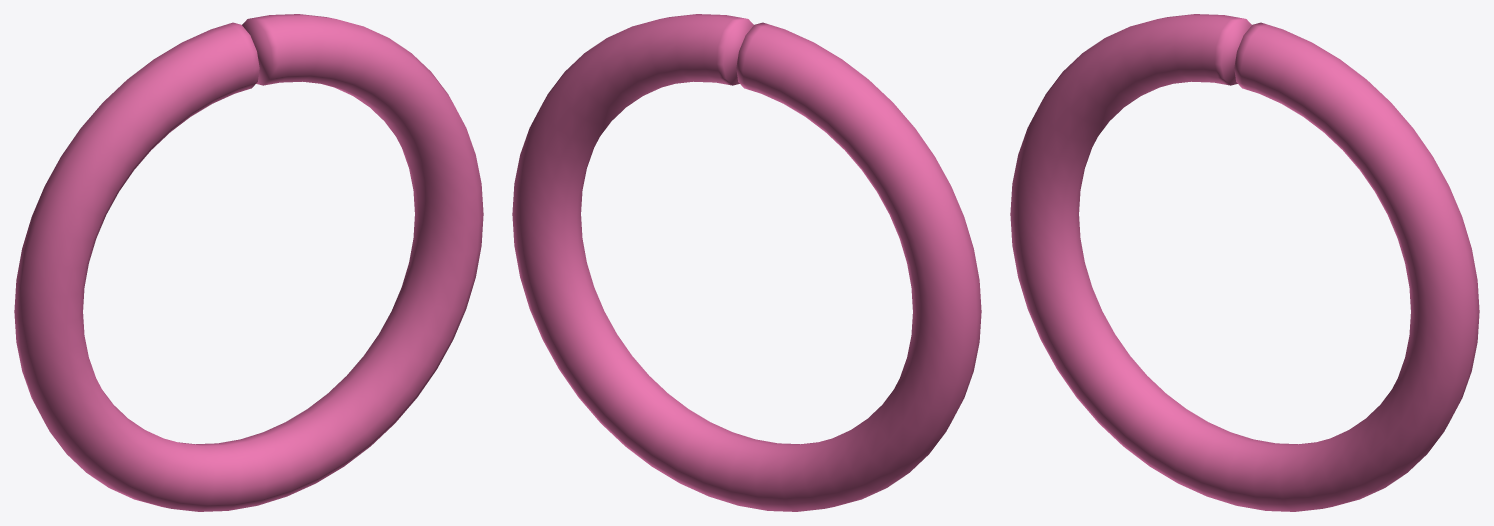
The model's file is ympyra.glb.
The picture shows the model from 3 angles, left to right: view 1: azimuth 30°, elevation 25°; view 2: azimuth 150°, elevation 25°; view 3: azimuth 330°, elevation 25°; orthographic projection.
Visible parts, largest first — view 1: Torus; view 2: Torus; view 3: Torus.
Part boxes in pixels (x1,y1,x2,y2): Torus: (14, 14, 483, 511); Torus: (512, 14, 981, 511); Torus: (1010, 14, 1479, 511).
Size of the model in its own units: 2.71 by 2.71 by 0.3519.
